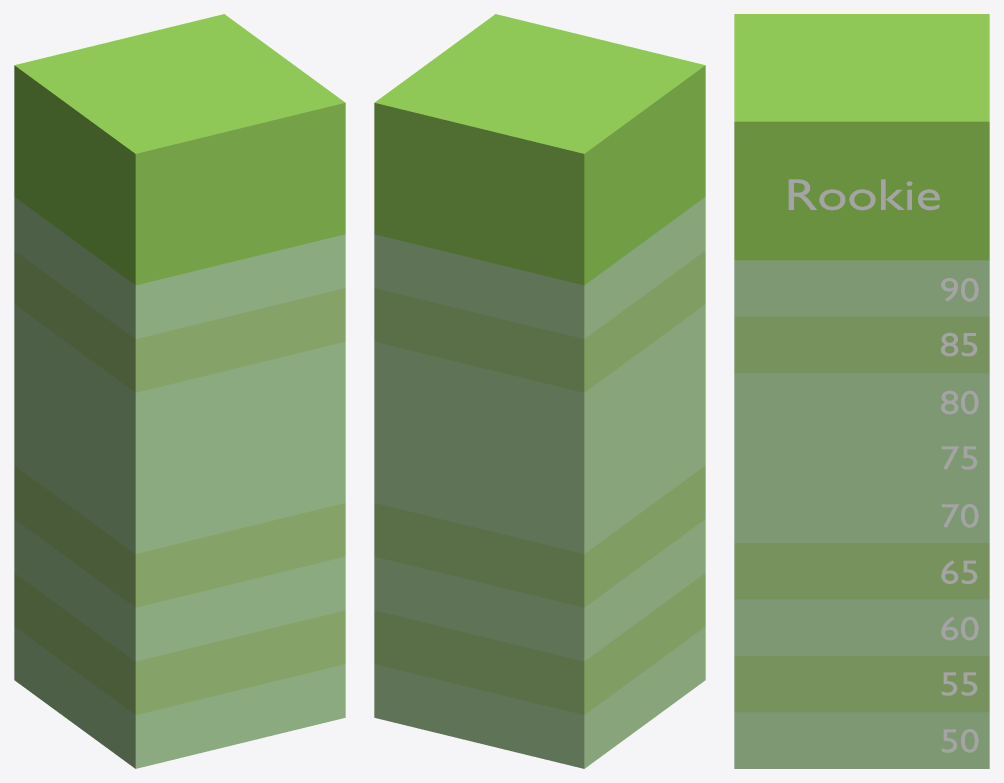
Rendered from rookie_block.fbx.
3 views of the same model, side by side, from view 1: azimuth 30°, elevation 25°; view 2: azimuth 150°, elevation 25°; view 3: azimuth 270°, elevation 25° (orthographic). The views are drawn at different scales.
Parts seen in each view (by area): view 1: Cube.019, Cube.018, Cube.017, Cube.012, Cube.011, Cube.010, Cube.016, Cube.015, Cube.013, Cube.014; view 2: Cube.019, Cube.018, Cube.017, Cube.012, Cube.011, Cube.010, Cube.016, Cube.015, Cube.013, Cube.014; view 3: Cube.019, Cube.015, Cube.017, Cube.011, Cube.014, Cube.013, Cube.010, Cube.012, Cube.018, Cube.016, Text.019, Text.016 (+1 smaller).
Part boxes in pixels (x1,y1,x2,y2): Cube.019: (14,14,345,285); Cube.018: (14,197,345,338); Cube.017: (14,250,345,392); Cube.012: (14,519,345,661); Cube.011: (14,573,345,715); Cube.010: (14,627,345,768); Cube.016: (14,304,345,446); Cube.015: (14,358,345,500); Cube.013: (14,465,345,607); Cube.014: (14,412,345,553); Cube.019: (374,14,705,285); Cube.018: (374,197,705,338); Cube.017: (374,250,705,392); Cube.012: (374,519,705,661); Cube.011: (374,573,705,715); Cube.010: (374,627,705,768); Cube.016: (374,304,705,446); Cube.015: (374,358,705,500); Cube.013: (374,465,705,607); Cube.014: (374,412,705,553); Cube.019: (734,14,989,260); Cube.015: (734,429,989,486); Cube.017: (734,316,989,373); Cube.011: (734,656,989,712); Cube.014: (734,486,989,542); Cube.013: (734,543,989,599); Cube.010: (734,712,989,768); Cube.012: (734,599,989,655); Cube.018: (734,260,989,316); Cube.016: (734,373,989,429); Text.019: (788,179,939,210); Text.016: (941,390,978,414).
Bounding box in the file's own units: 200 × 560 × 200.
